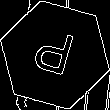P_S: (30, 26, 80, 84)
